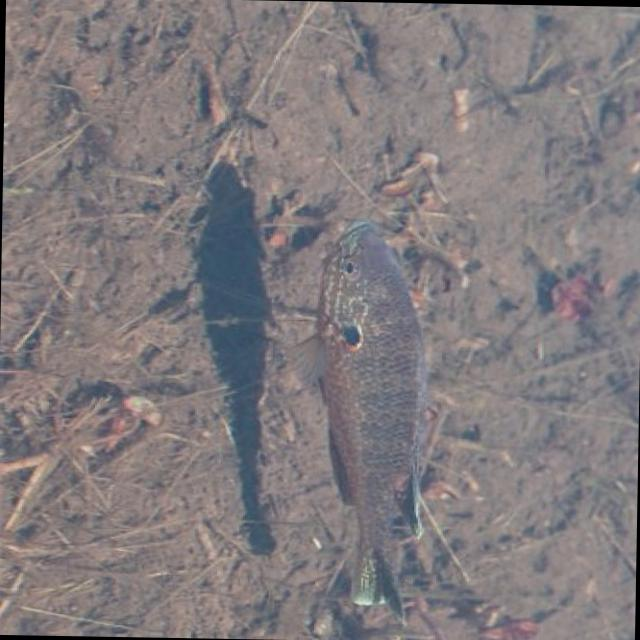Gunes Levregi: (287, 187, 447, 628)
